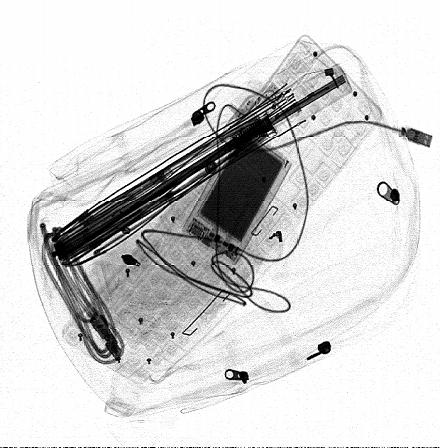Powerbank: (181, 124, 293, 266)
